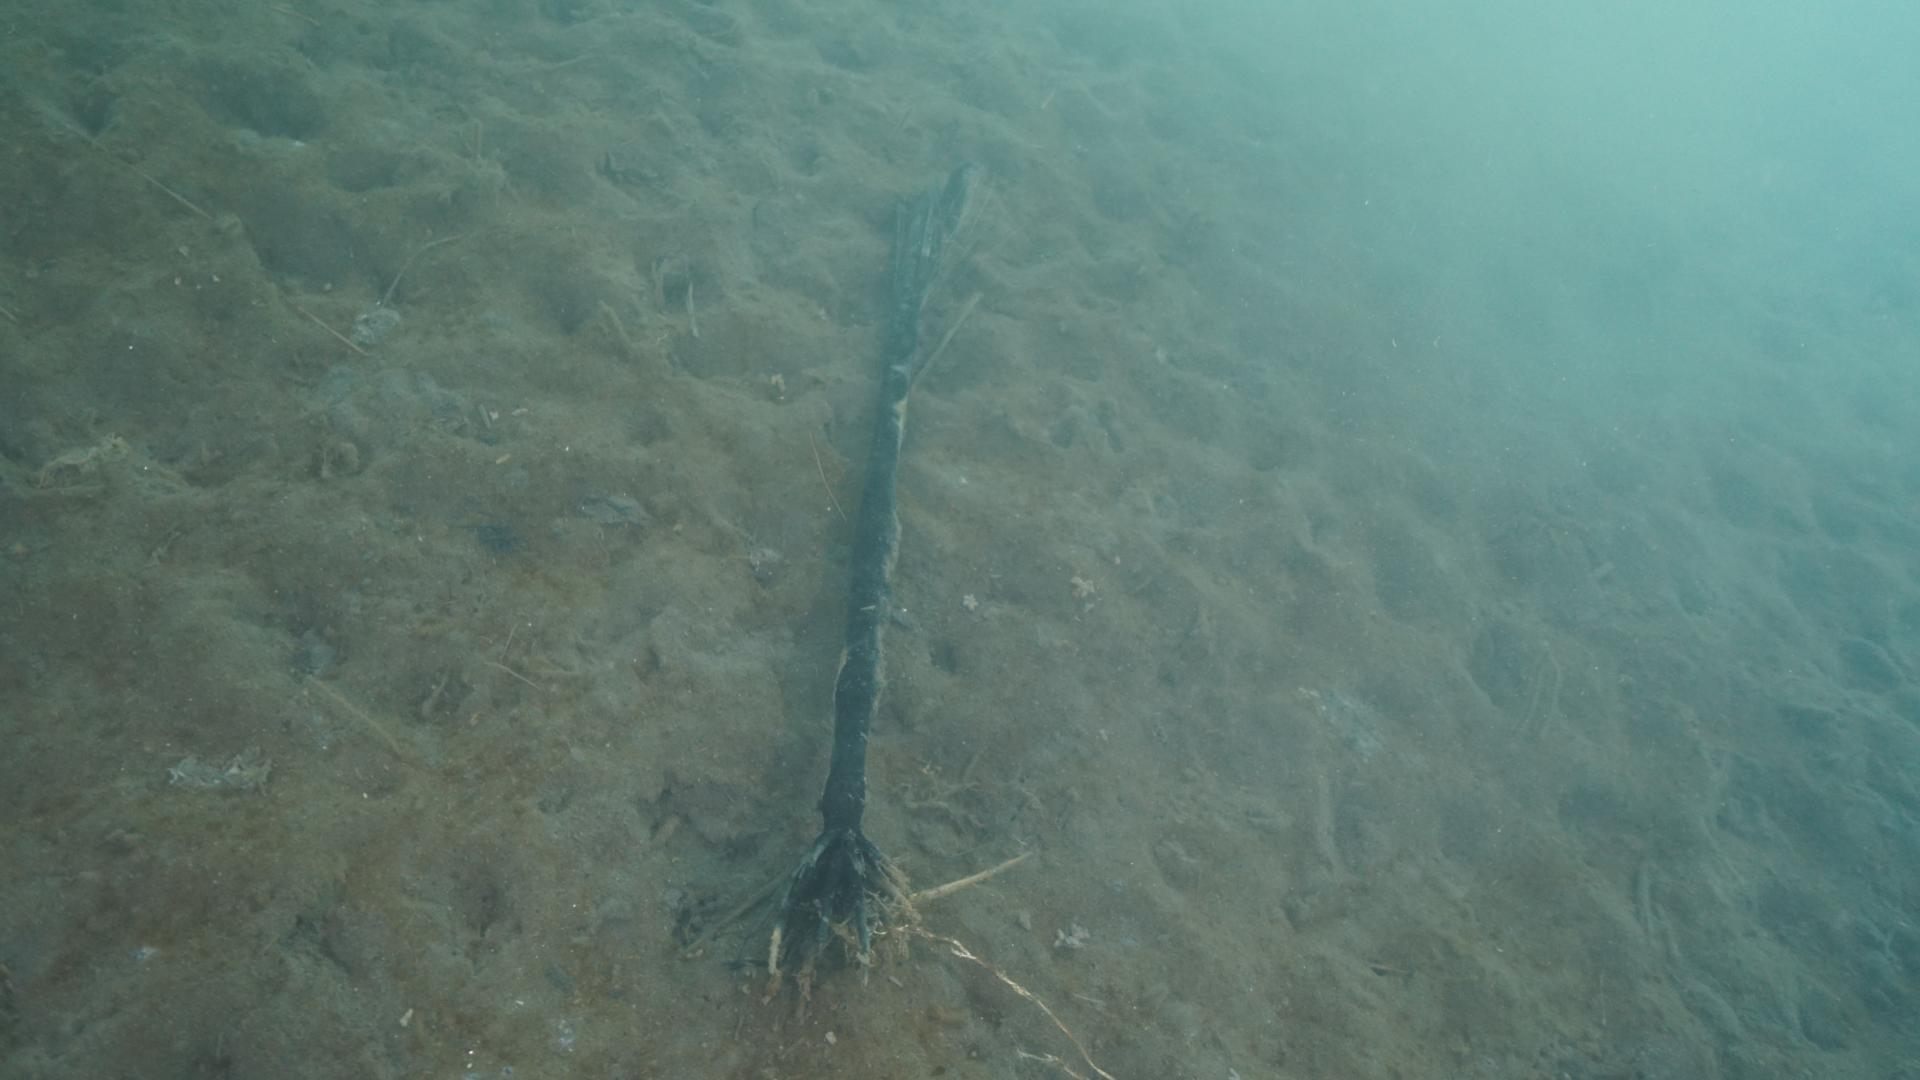wood: (765, 160, 1127, 1080)
